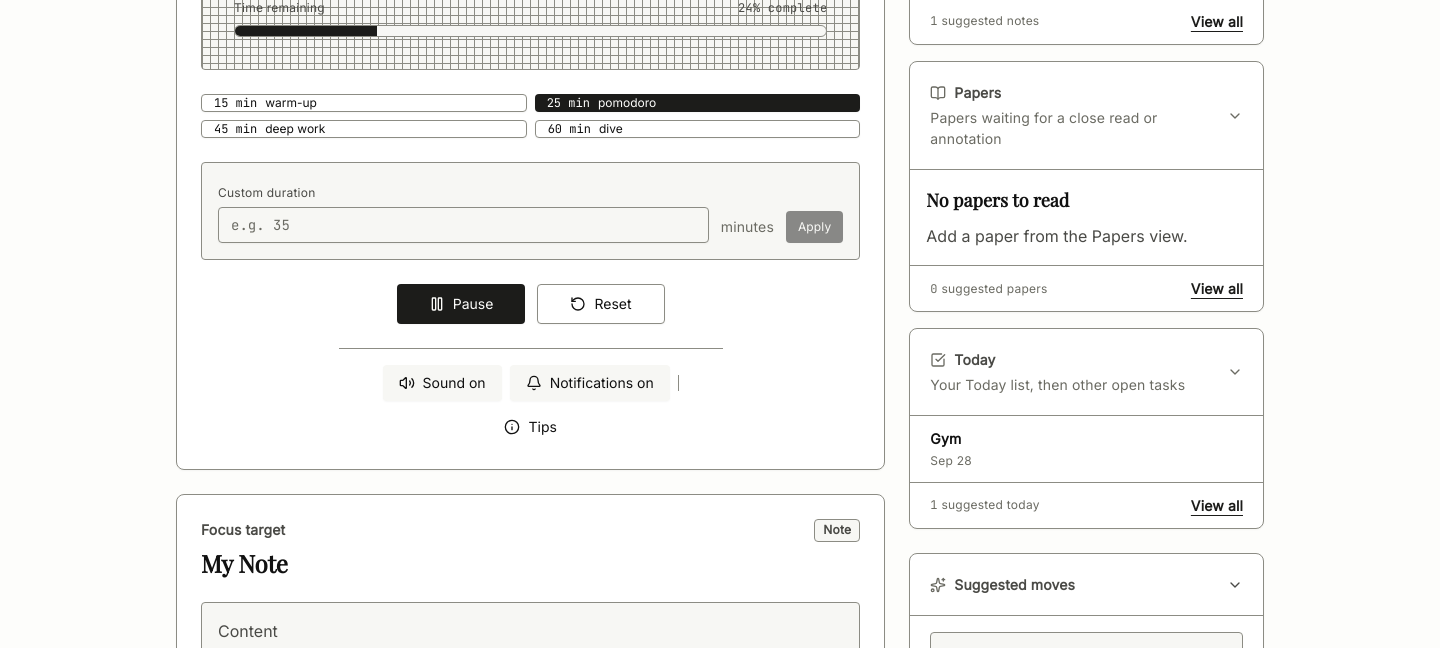
Test: FocusWorkspace › StrictMode remount of a stored running session resumes live and completes exactly once
(page scrolled)
Click the button "Pause" at {"x": 461, "y": 304}, box 397,284 -> 525,324
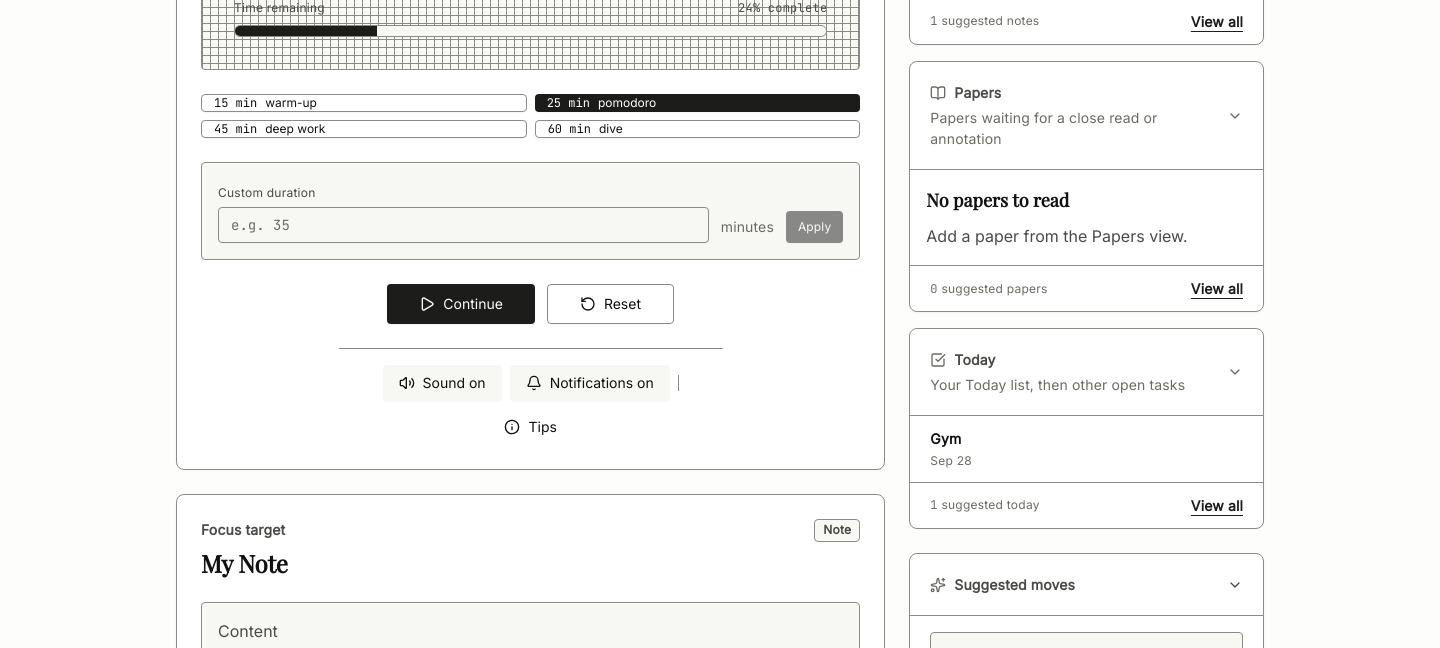
Expected: the button "Continue" is shown
Click the button "Continue" at {"x": 461, "y": 304}, box 387,284 -> 535,324
Wait 60000 ms
(page scrolled)
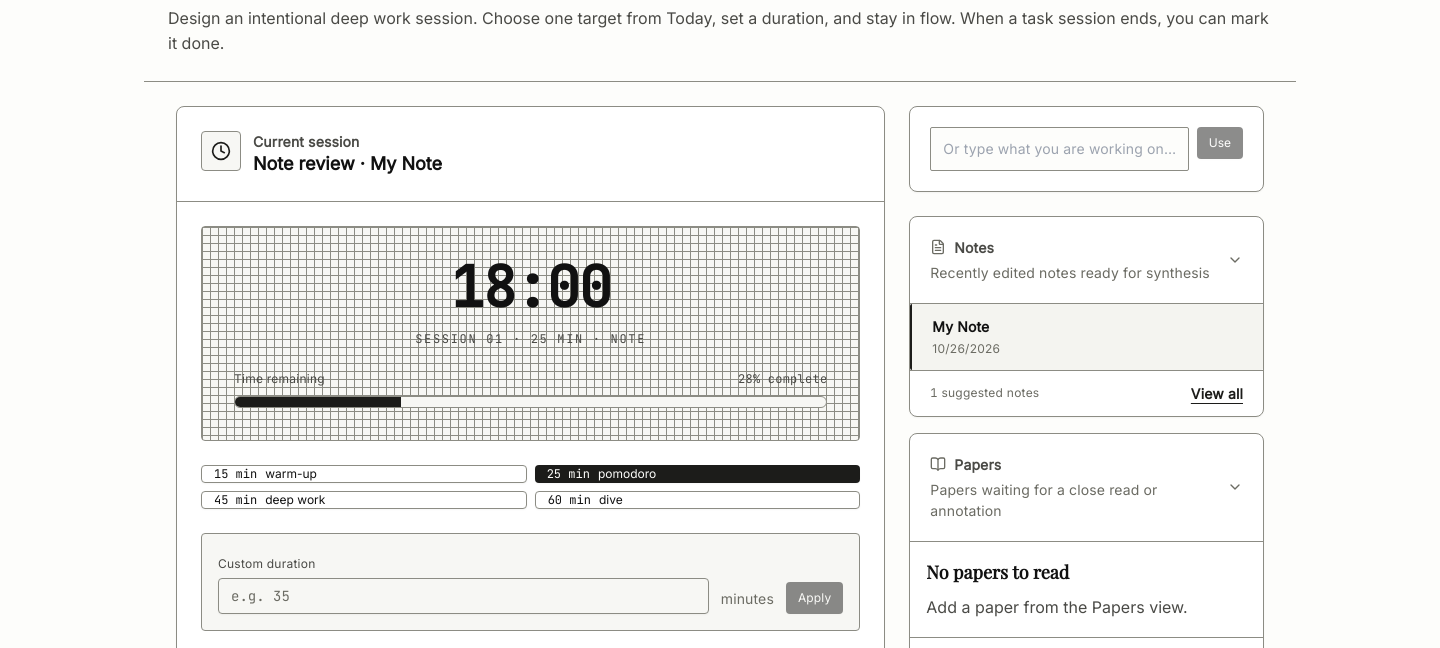
Expected: the text "18:00" is shown, 451,250 -> 610,324
